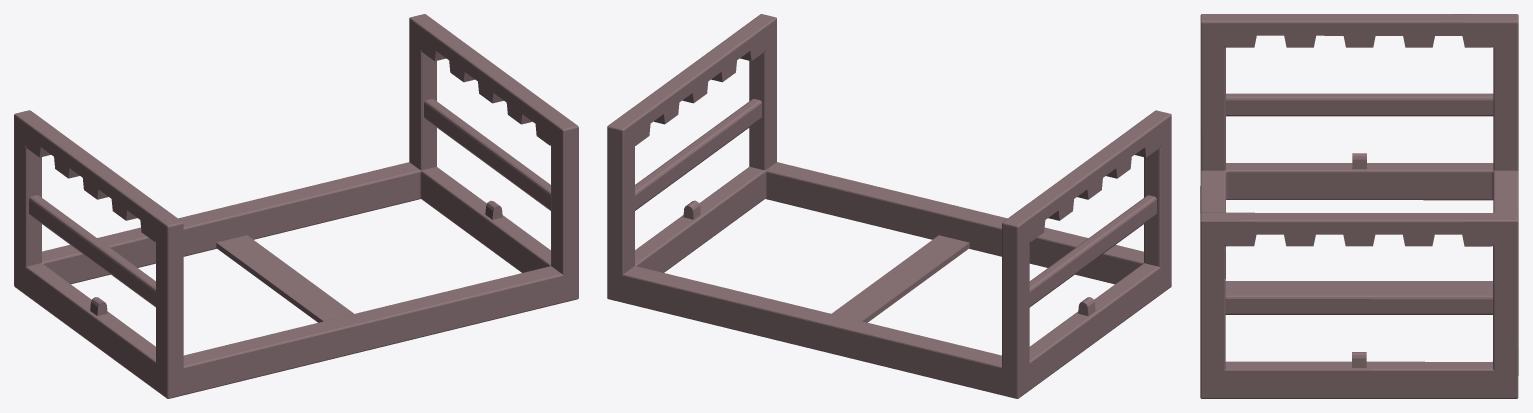
The model's file is metalbox_1.fbx.
3 views of the same model, side by side, from view 1: azimuth 30°, elevation 25°; view 2: azimuth 150°, elevation 25°; view 3: azimuth 270°, elevation 25° (orthographic). The views are drawn at different scales.
Parts seen in each view (by area): view 1: metalbox_1; view 2: metalbox_1; view 3: metalbox_1.
Boxes of the visible parts, left/top/right/bottom form: metalbox_1: left=14, top=14, right=578, bottom=398; metalbox_1: left=607, top=14, right=1171, bottom=398; metalbox_1: left=1200, top=14, right=1518, bottom=398.
Size of the model in its own units: 325 by 131 by 211.
